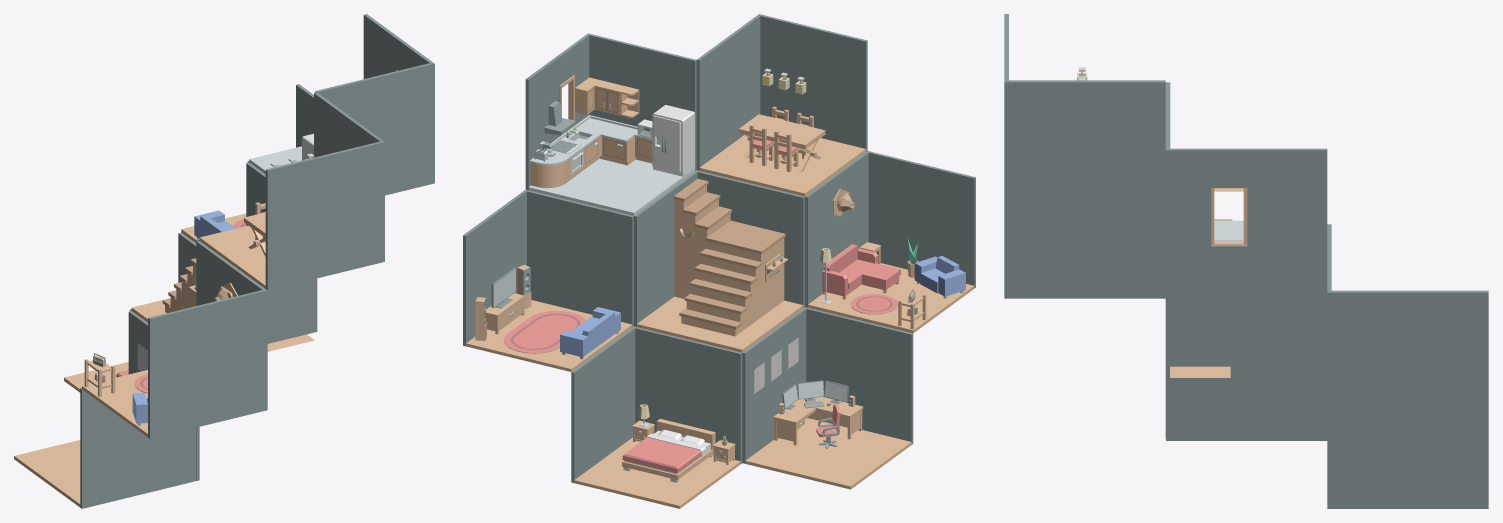
Rendered from rooms.7e05c6dd.fbx.
3 views of the same model, side by side, from view 1: azimuth 30°, elevation 25°; view 2: azimuth 150°, elevation 25°; view 3: azimuth 270°, elevation 25° (orthographic). The views are drawn at different scales.
Visible parts, largest first — view 1: wall1 (×4), wall3, wall (×6), floor (×4), wall2, floor1, furniture:stairsCorner, furniture:loungeDesignSofa, bookcaseOpenLow, tableCross, loungeDesignChair; view 2: wall1 (×6), wall (×6), floor (×6), furniture:stairsCorner, wall3, wall2, floor1, loungeSofaLong, rugRounded, deskCorner:deskCorner, cover, tableCross (+18 smaller); view 3: wall (×6), wall2, furniture:stairsCorner, wallWindow.
Part boxes in pixels (left/top/right/bottom): wall1 (×4): left=80, top=63, right=431, bottom=508; wall3: left=265, top=141, right=381, bottom=290; wall (×6): left=128, top=14, right=434, bottom=480; floor (×4): left=14, top=146, right=301, bottom=507; wall2: left=314, top=92, right=384, bottom=262; floor1: left=199, top=225, right=265, bottom=288; furniture:stairsCorner: left=162, top=258, right=314, bottom=351; furniture:loungeDesignSofa: left=194, top=210, right=235, bottom=239; bookcaseOpenLow: left=84, top=359, right=115, bottom=396; tableCross: left=244, top=212, right=265, bottom=256; loungeDesignChair: left=132, top=392, right=147, bottom=425; wall1 (×6): left=527, top=34, right=975, bottom=463; wall (×6): left=463, top=33, right=869, bottom=482; floor (×6): left=466, top=158, right=974, bottom=508; furniture:stairsCorner: left=673, top=178, right=785, bottom=336; wall3: left=760, top=14, right=867, bottom=151; wall2: left=696, top=14, right=761, bottom=170; floor1: left=699, top=135, right=865, bottom=196; loungeSofaLong: left=822, top=244, right=900, bottom=299; rugRounded: left=503, top=310, right=586, bottom=353; deskCorner:deskCorner: left=773, top=397, right=863, bottom=445; cover: left=622, top=433, right=705, bottom=473; tableCross: left=738, top=114, right=825, bottom=172; wall (×6): left=1004, top=148, right=1488, bottom=508; wall2: left=1004, top=80, right=1165, bottom=224; furniture:stairsCorner: left=1170, top=219, right=1232, bottom=377; wallWindow: left=1211, top=188, right=1247, bottom=244.
Bounding box in the file's own units: 55.9 × 54 × 55.5.
